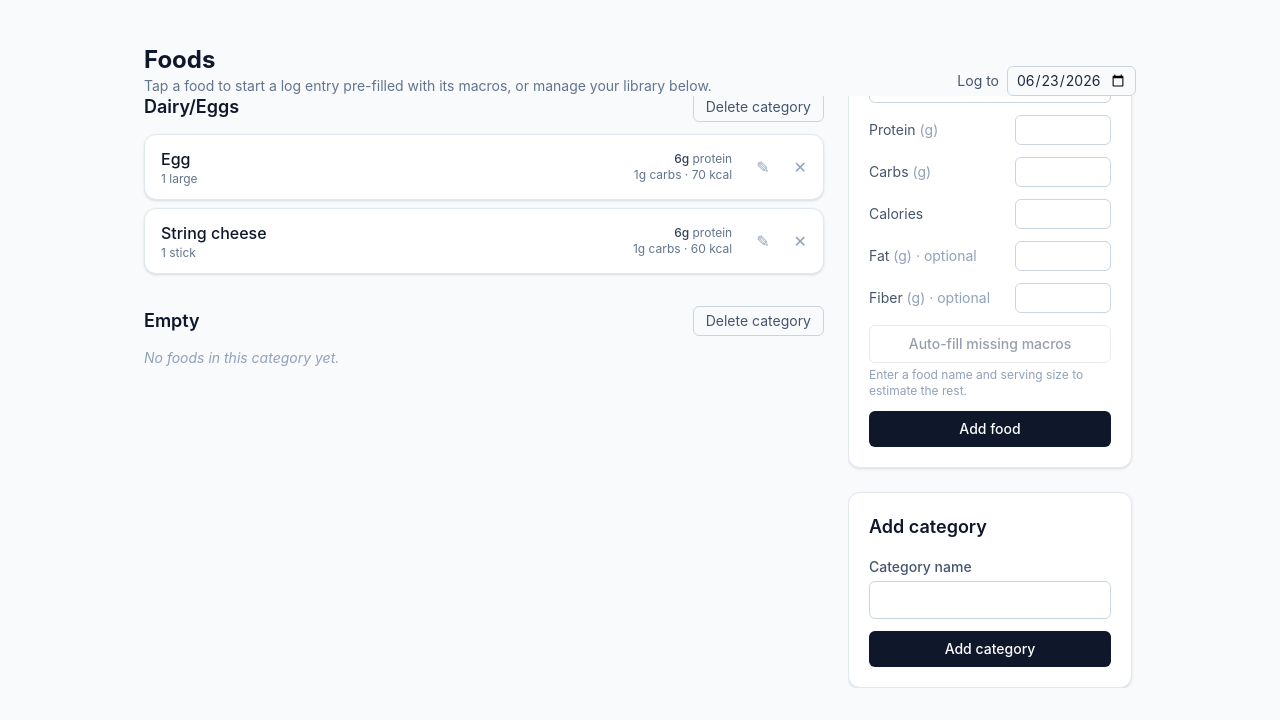
Test case: FoodsPage › rejects a duplicate category name
(page scrolled)
Type "Dairy/Eggs" into the field named "New category name" at (990, 600), box [869,581,1111,619]
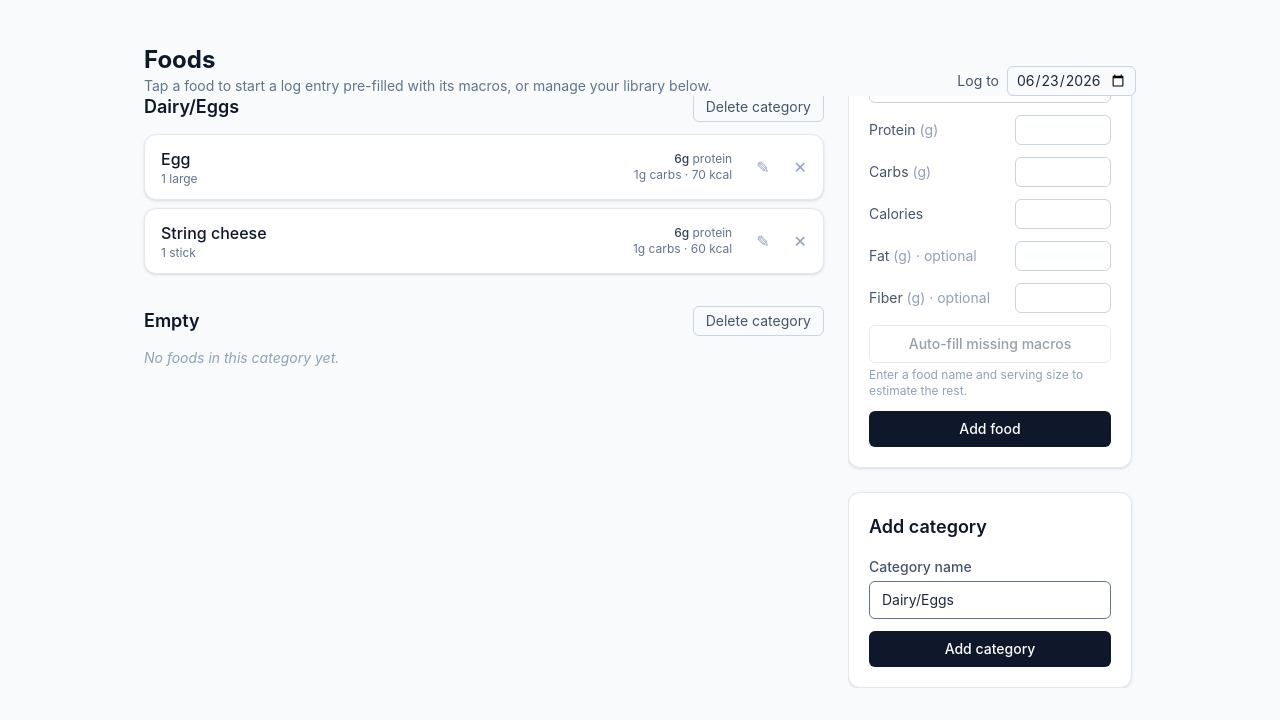
Click the button "Add category" at (990, 649), box [869,631,1111,667]
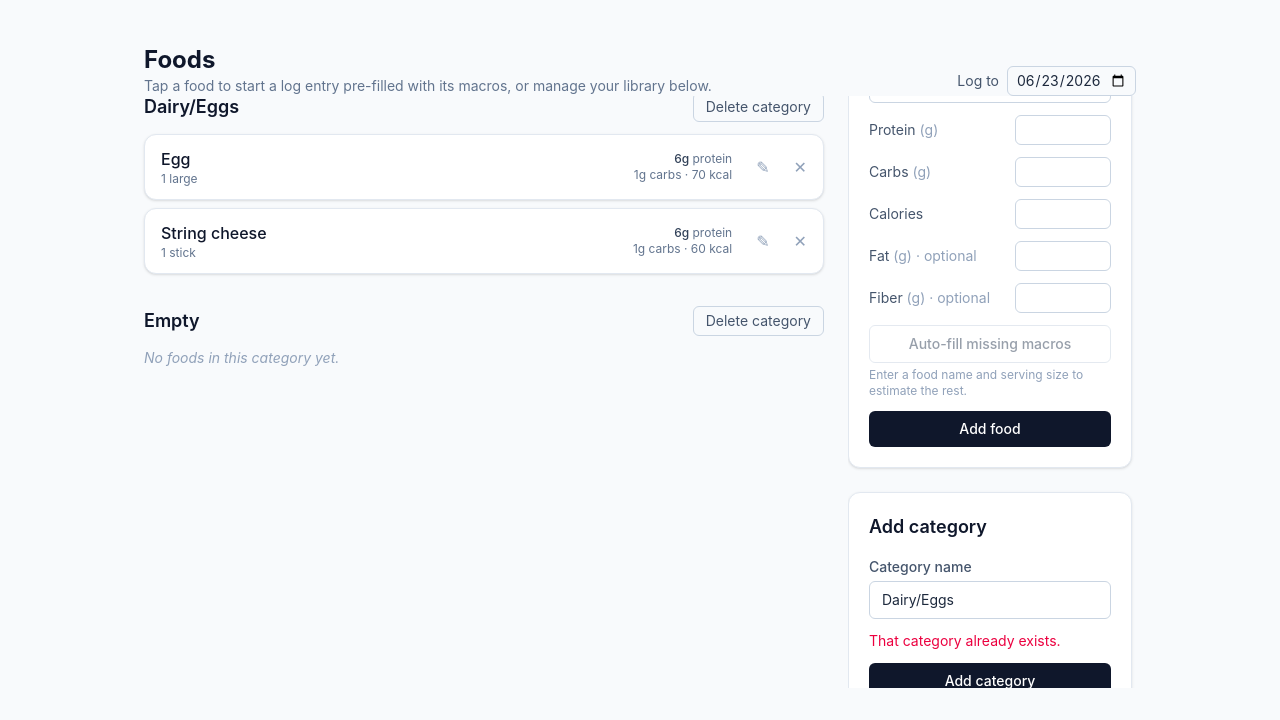
Check: the message shows "already exists", box [869,632,1061,649]
